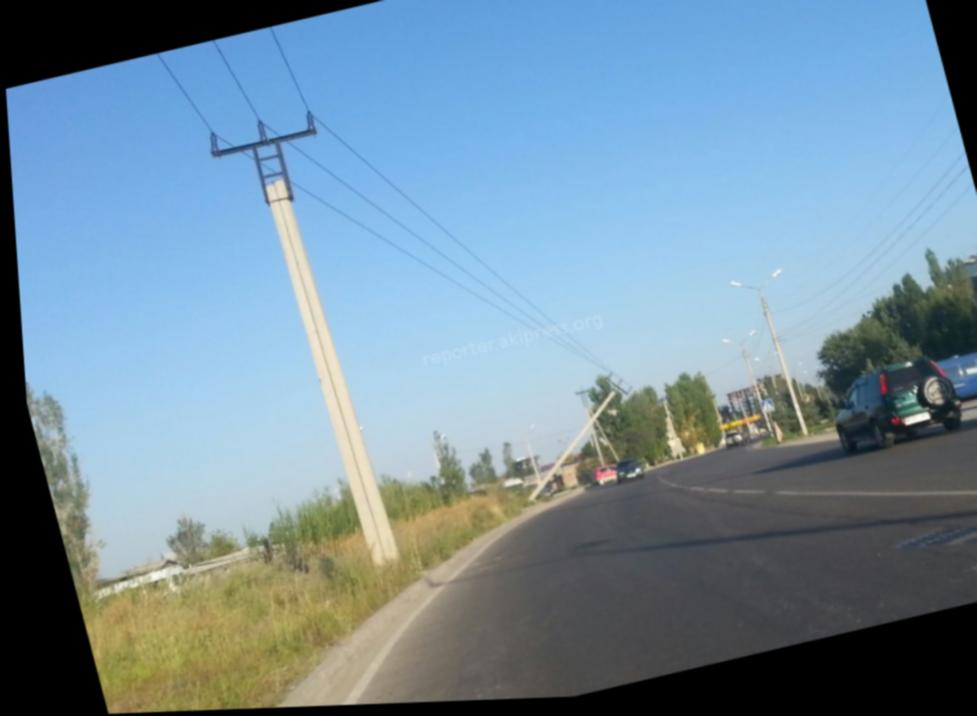Animal: (187, 82, 443, 595), (473, 346, 658, 575), (714, 256, 836, 465), (695, 316, 780, 460)
